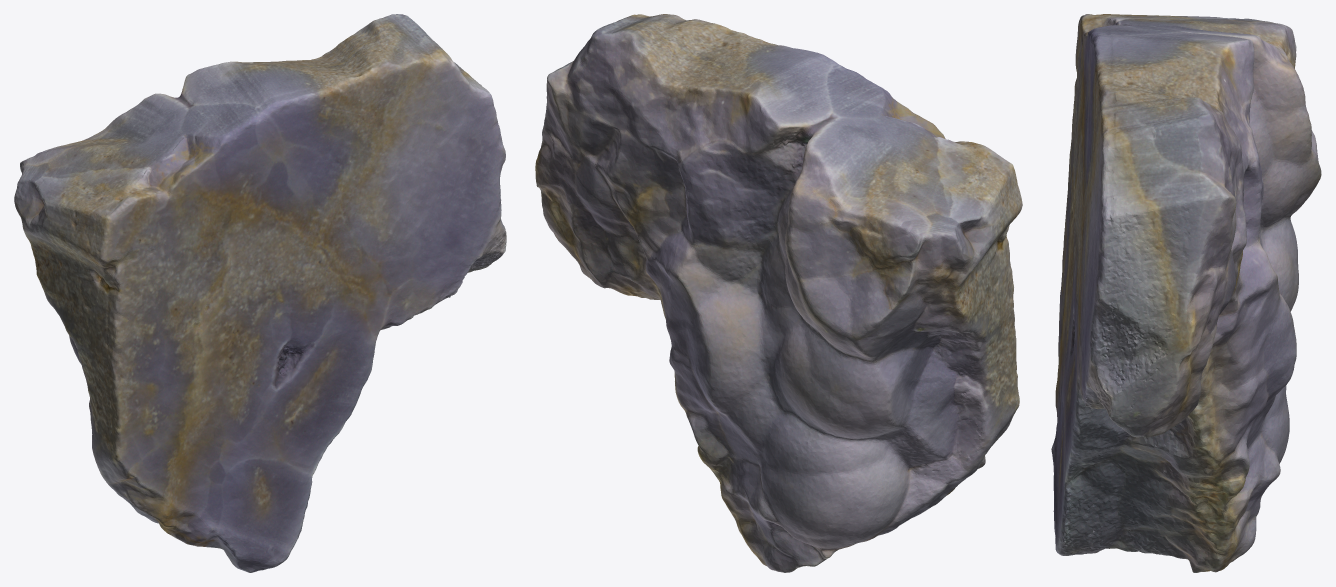
File: Fluorite.fbx
The picture shows the model from 3 angles, left to right: view 1: azimuth 30°, elevation 25°; view 2: azimuth 150°, elevation 25°; view 3: azimuth 270°, elevation 25°; orthographic projection. The views are drawn at different scales.
Visible parts, largest first — view 1: Model; view 2: Model; view 3: Model.
Boxes of the visible parts, x1,y1,x2,y2 form: Model: (14,14,506,572); Model: (535,14,1022,572); Model: (1051,14,1321,572).
Size of the model in its own units: 3.9 by 1.78 by 4.03.
Materials: 1 (1 with a texture image).
